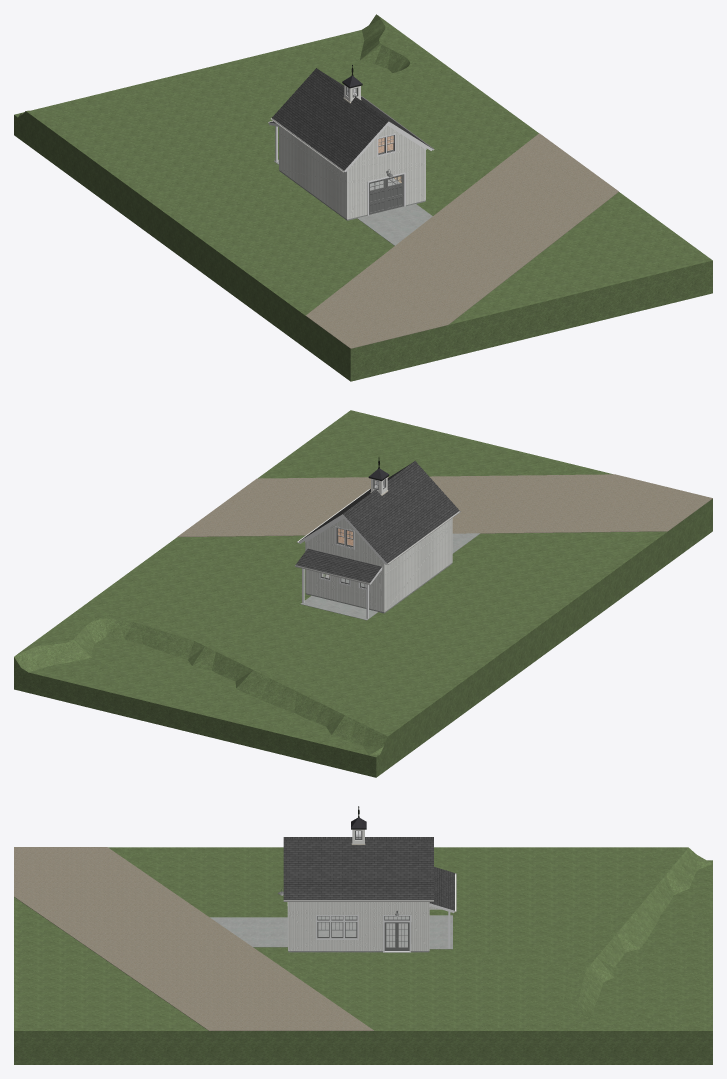
File: housesample.glb
3 renders of one model, top to bottom at view 1: azimuth 30°, elevation 25°; view 2: azimuth 150°, elevation 25°; view 3: azimuth 270°, elevation 25°, orthographic. The views are drawn at different scales.
Visible parts, largest first — view 1: Object_8, Object_5, Object_14, Object_11, Object_18, Object_13; view 2: Object_8, Object_5, Object_11, Object_14, Object_18, Object_15, Object_16; view 3: Object_8, Object_5, Object_11, Object_14, Object_18, Object_25, Object_12, Object_22, Object_15.
Boxes of the visible parts, x1,y1,x2,y2 form: Object_8: [14, 14, 712, 381]; Object_5: [306, 133, 618, 348]; Object_14: [279, 125, 425, 219]; Object_11: [269, 68, 430, 170]; Object_18: [274, 159, 432, 245]; Object_13: [369, 169, 403, 214]; Object_8: [14, 410, 712, 777]; Object_5: [177, 474, 712, 537]; Object_11: [295, 461, 459, 582]; Object_14: [305, 518, 452, 612]; Object_18: [300, 533, 480, 620]; Object_15: [295, 477, 460, 584]; Object_16: [296, 511, 458, 584]; Object_8: [14, 847, 712, 1064]; Object_5: [14, 847, 373, 1030]; Object_11: [283, 837, 454, 910]; Object_14: [288, 902, 439, 950]; Object_18: [210, 915, 452, 952]; Object_25: [318, 831, 408, 946]; Object_12: [317, 830, 409, 950]; Object_22: [287, 831, 411, 952]; Object_15: [283, 829, 456, 935].
Size of the model in its own units: 1109 by 452 by 1786.
24 materials, 15 textured.
